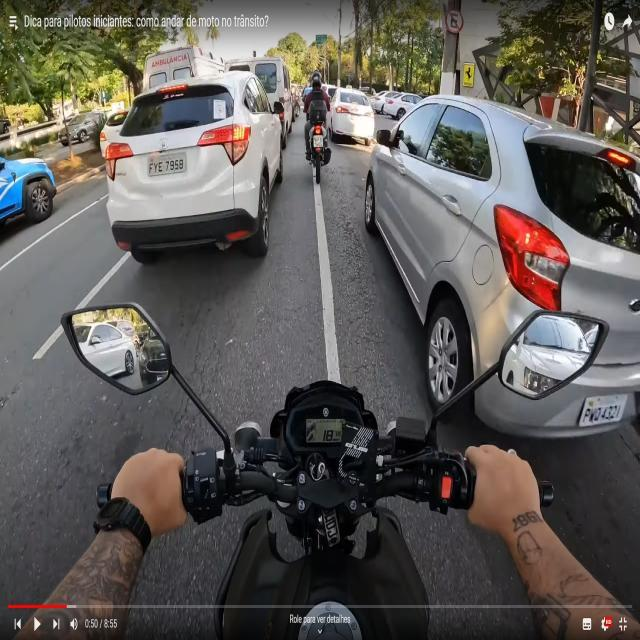Placa_mercosul_carro: (578, 394, 630, 427), (147, 151, 188, 177)
placa_moto: (314, 133, 325, 150)
